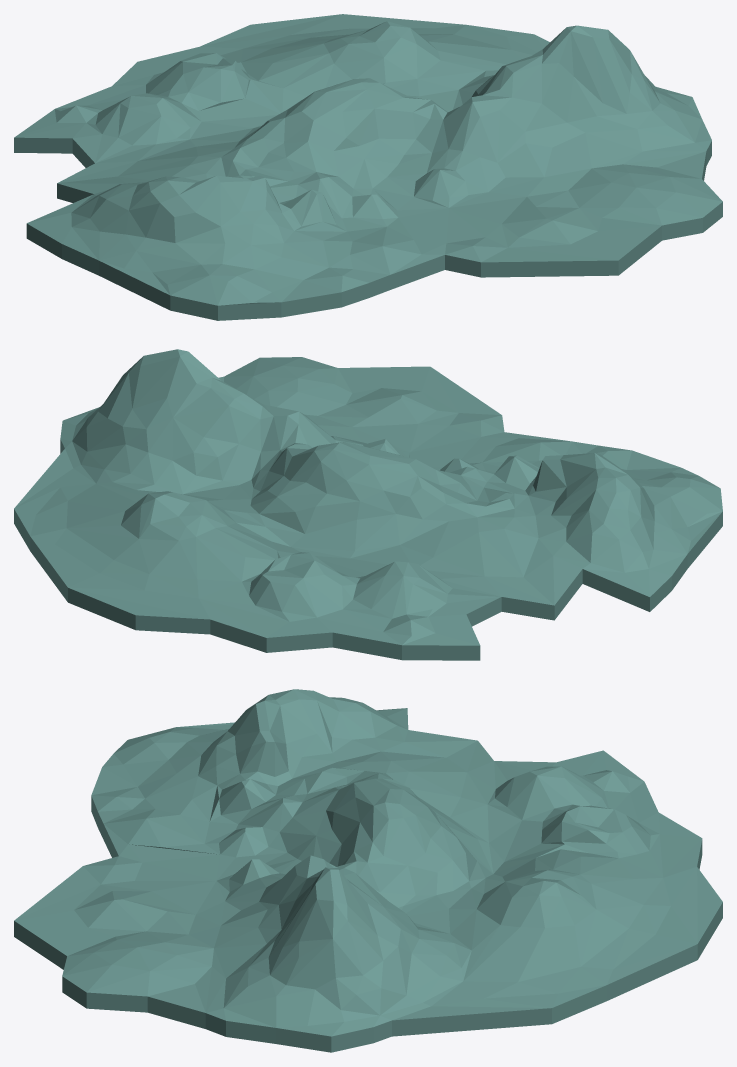
The model's file is delh_terr_01_01.fbx.
3 renders of one model, top to bottom at view 1: azimuth 30°, elevation 25°; view 2: azimuth 150°, elevation 25°; view 3: azimuth 270°, elevation 25°, orthographic. The views are drawn at different scales.
Parts seen in each view (by area): view 1: delh_terr_01_01; view 2: delh_terr_01_01; view 3: delh_terr_01_01.
Boxes of the visible parts, bbox=[...] form: delh_terr_01_01: bbox=[14, 14, 722, 320]; delh_terr_01_01: bbox=[14, 349, 722, 660]; delh_terr_01_01: bbox=[14, 689, 722, 1052].
Size of the model in its own units: 16663 by 2914 by 15255.
